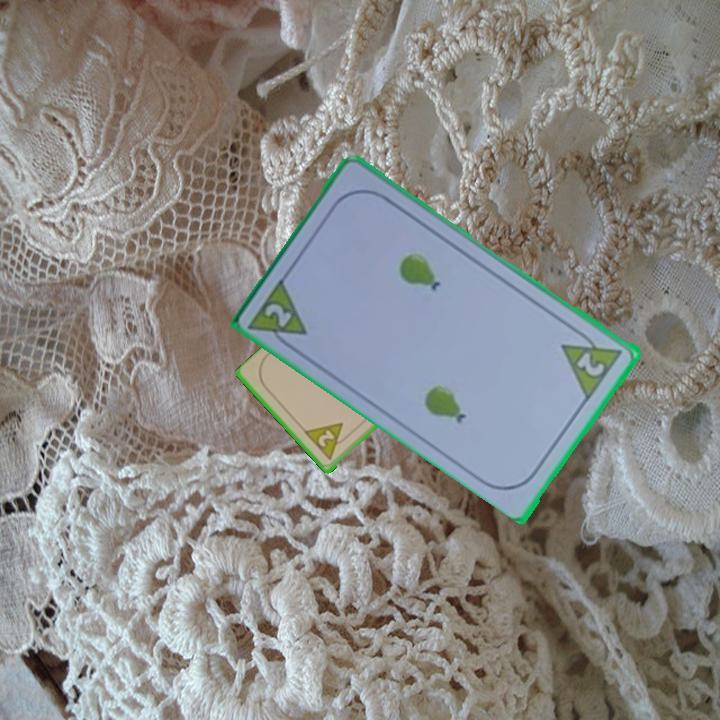2p: (246, 273, 312, 355), (558, 324, 627, 402), (301, 419, 354, 463)
